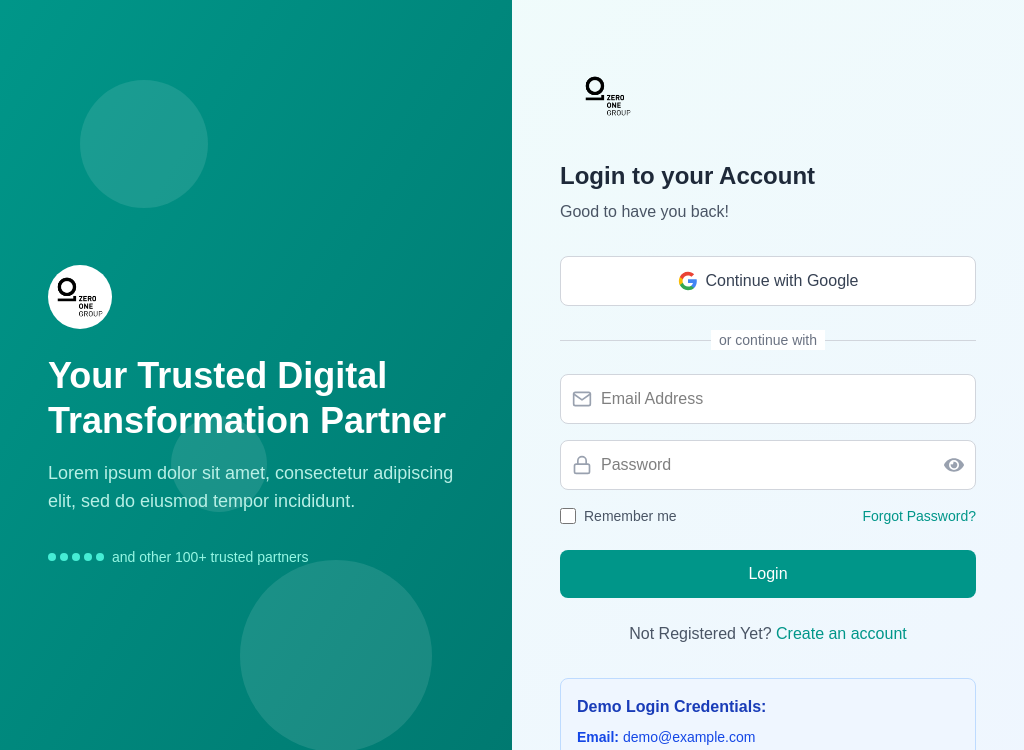
Test case: Authentication Flow › should navigate to register page
Click the button "Create an account" at (842, 634), box [776,622,907,646]
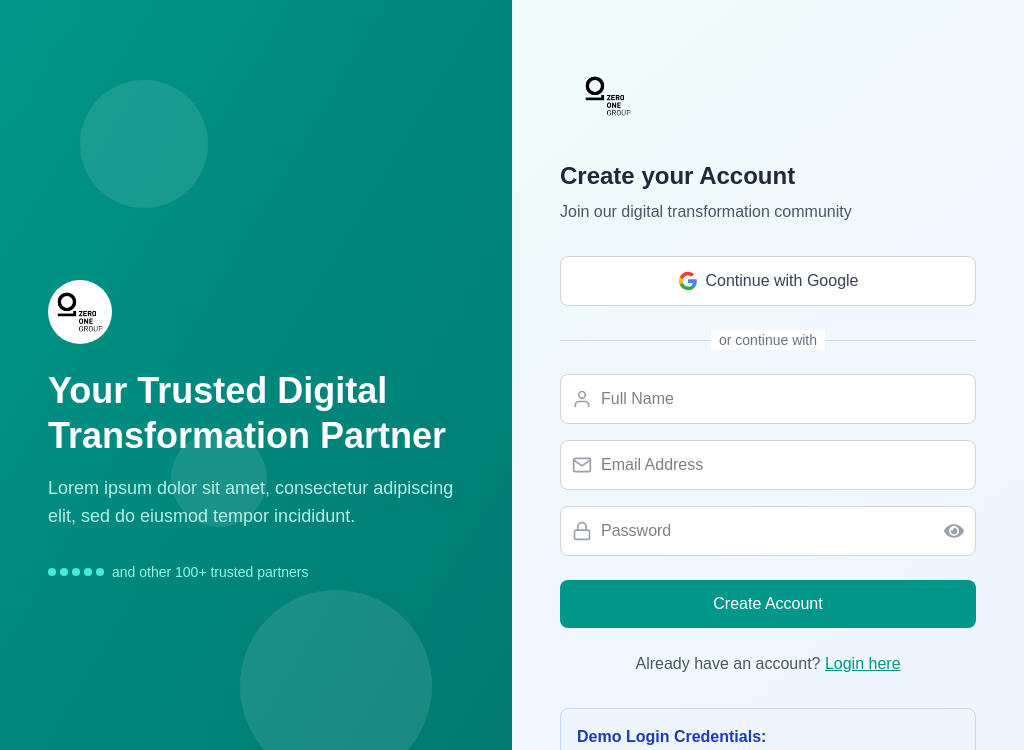
Check: the heading "Create your Account" is shown, box [560,162,795,189]
